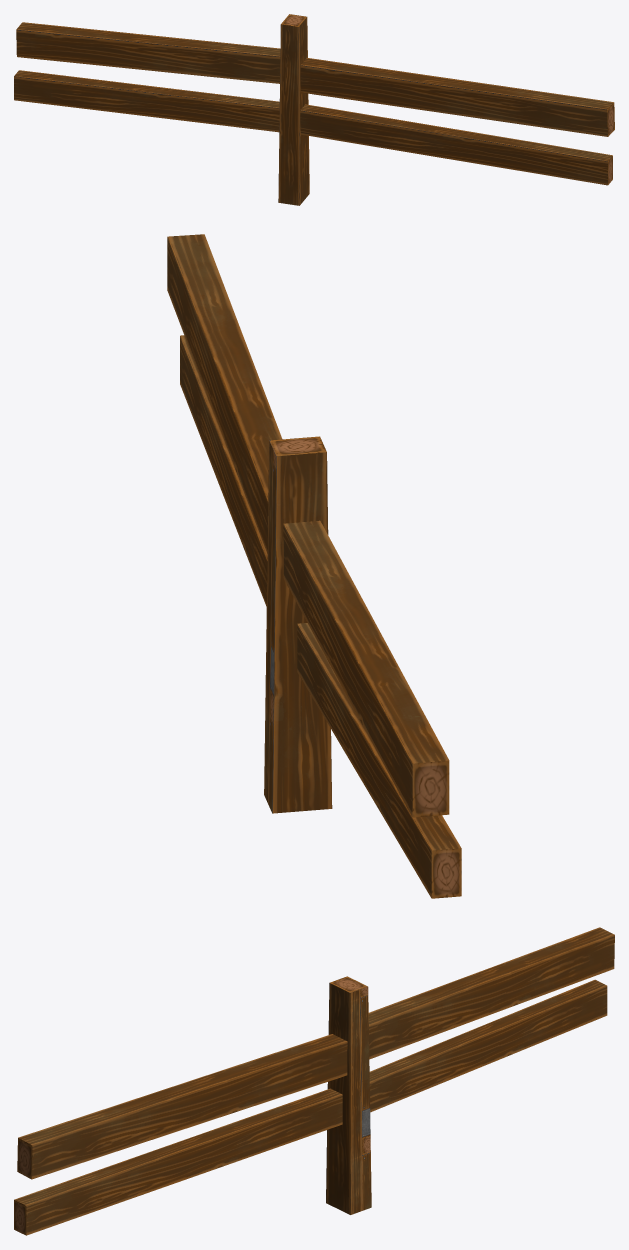
3 views of the same model, one above another, from view 1: azimuth 30°, elevation 25°; view 2: azimuth 150°, elevation 25°; view 3: azimuth 270°, elevation 25° (orthographic). The views are drawn at different scales.
Visible parts, largest first — view 1: Cube.459; view 2: Cube.459; view 3: Cube.459.
Part boxes in pixels (left/top/right/bottom): Cube.459: left=14, top=14, right=614, bottom=205; Cube.459: left=167, top=234, right=461, bottom=898; Cube.459: left=14, top=927, right=614, bottom=1235.
Size of the model in its own units: 313 by 142 by 351.
Materials: 1 (1 with a texture image).
